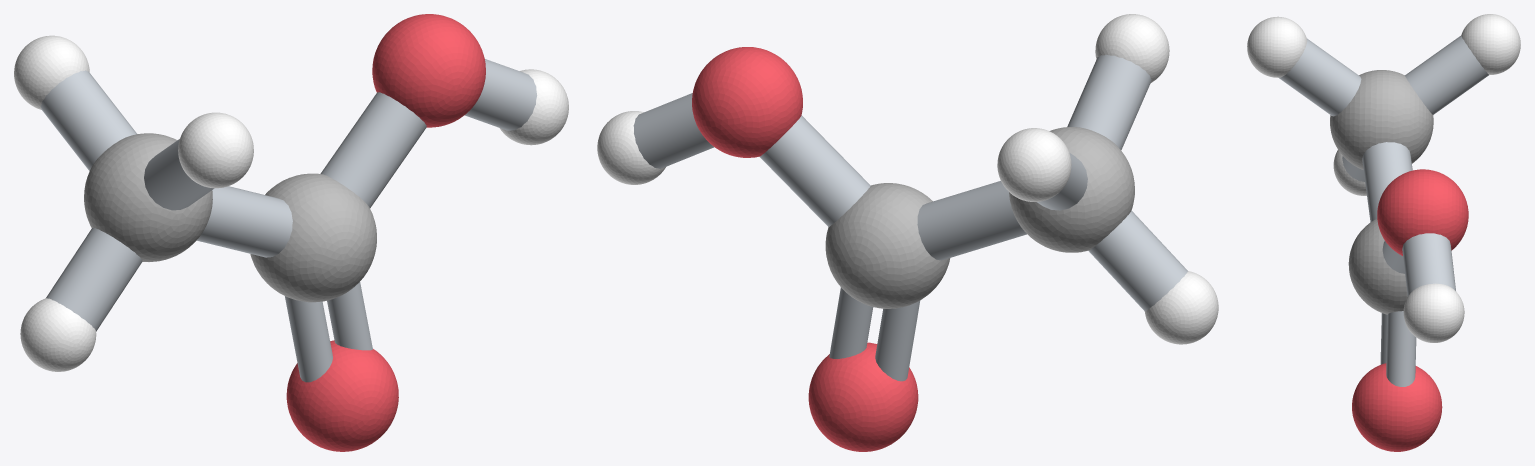
Rendered from Acetico.glb.
3 renders of one model, left to right at view 1: azimuth 30°, elevation 25°; view 2: azimuth 150°, elevation 25°; view 3: azimuth 270°, elevation 25°, orthographic. The views are drawn at different scales.
Size of the model in its own units: 4.43 by 3.16 by 2.24.
